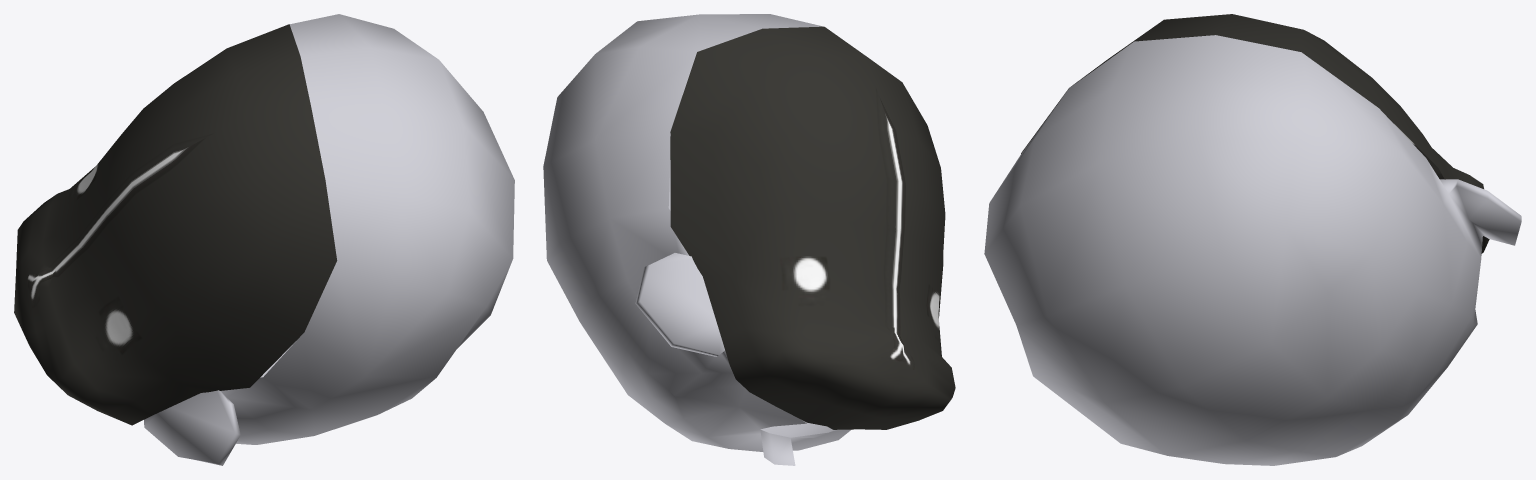
Rendered from basicDollHead (1).fbx.
3 renders of one model, left to right at view 1: azimuth 30°, elevation 25°; view 2: azimuth 150°, elevation 25°; view 3: azimuth 270°, elevation 25°, orthographic. The views are drawn at different scales.
Visible parts, largest first — view 1: face, Body; view 2: face, Body; view 3: Body, face.
Part boxes in pixels (x1,y1,x2,y2): face: (14, 24, 337, 425); Body: (144, 14, 514, 465); face: (670, 26, 955, 429); Body: (543, 14, 851, 465); Body: (984, 35, 1521, 465); face: (1021, 14, 1489, 253).
Size of the model in its own units: 0.3122 by 0.2759 by 0.3159.
